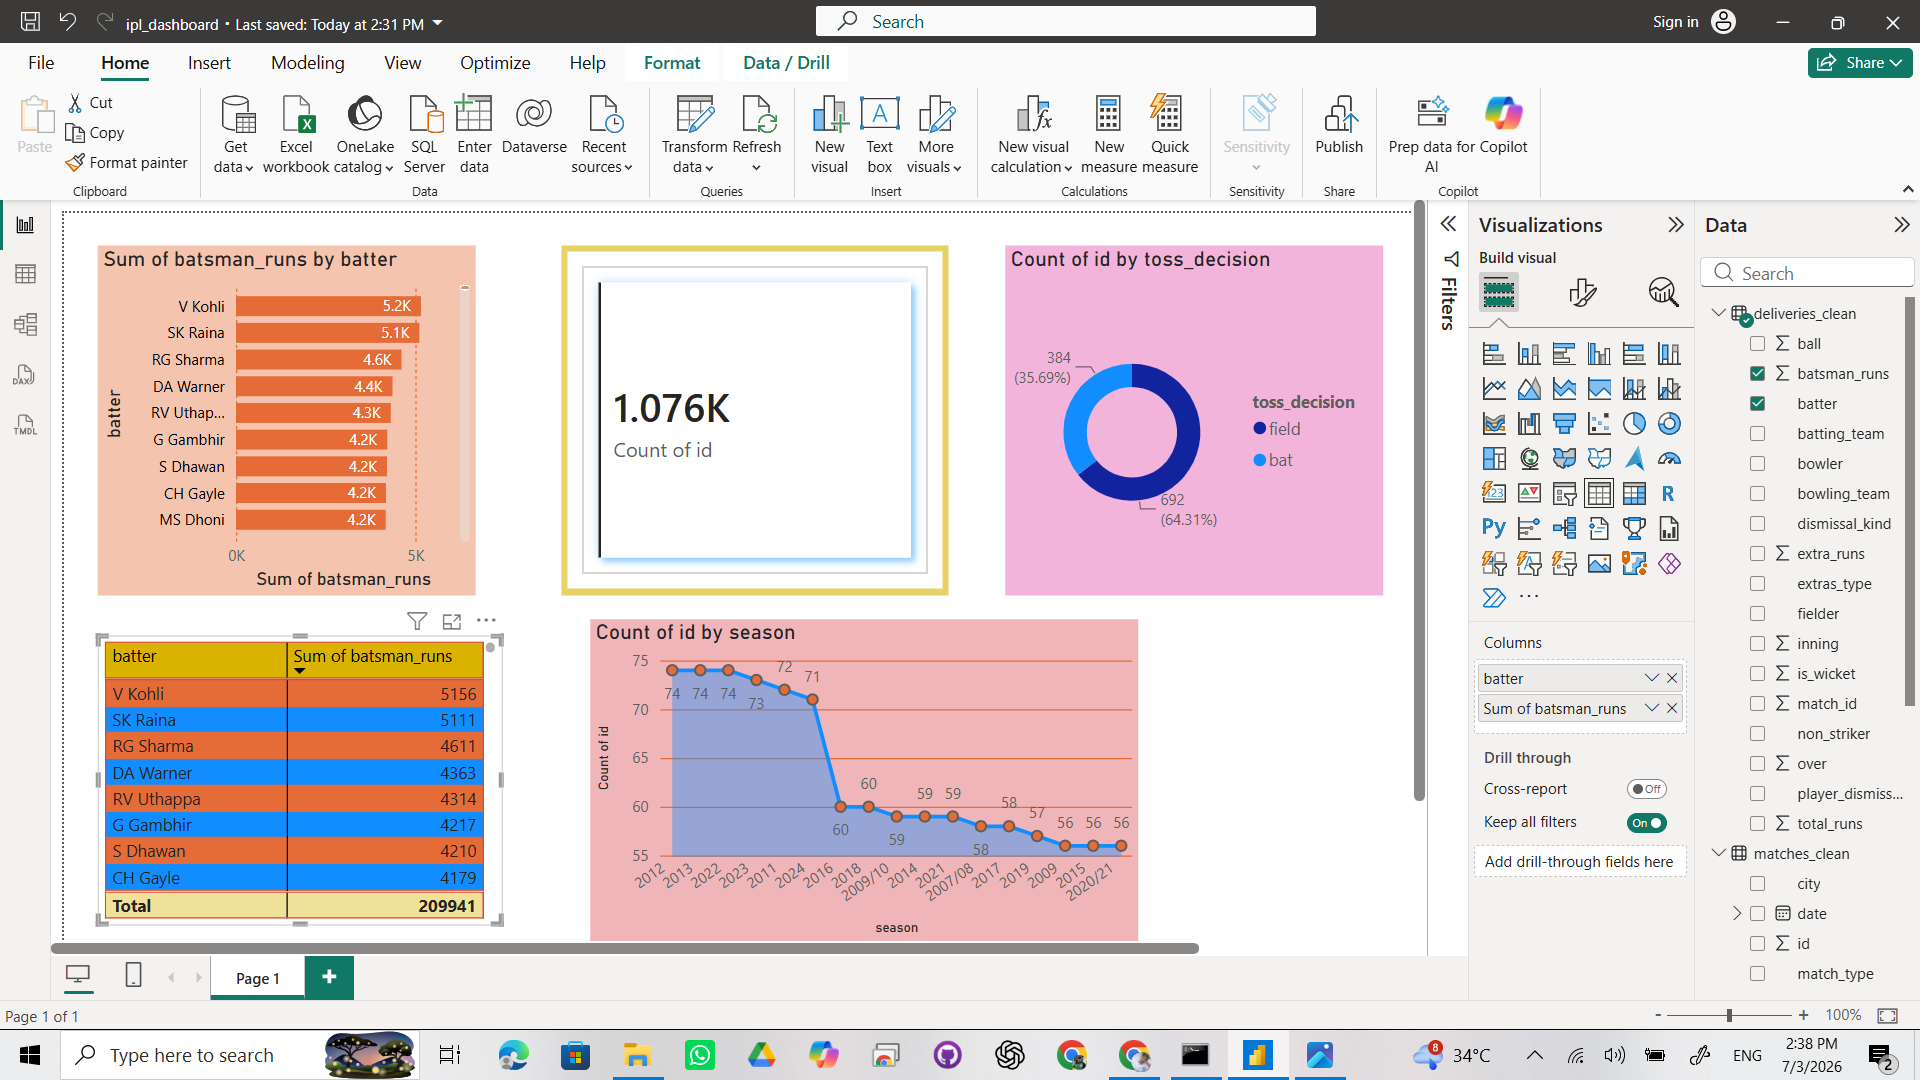

This screenshot's page, from the dashboard's own definition file:
{"tool":"powerbi","page":{"name":"Page 1","canvas":[1280,720],"ordinal":0},"visuals":[{"type":"cardVisual","fields":{"Data":["CountNonNull(matches_clean.id)"]},"box":[421,9,294,280],"z":0},{"type":"tableEx","fields":{"Values":["deliveries_clean.batter","deliveries_clean.batsman_runs"]},"box":[38,338,306,232],"z":1000},{"type":"donutChart","fields":{"Category":["matches_clean.toss_decision"],"Y":["CountNonNull(matches_clean.id)"]},"box":[754,9,303,280],"z":2000},{"type":"lineChart","fields":{"Category":["matches_clean.season"],"Y":["CountNonNull(matches_clean.id)"]},"box":[421,325,439,258],"z":3000},{"type":"clusteredBarChart","fields":{"Category":["deliveries_clean.batter"],"Y":["Sum(deliveries_clean.batsman_runs)"]},"box":[53,9,329,280],"z":4000}]}

Visuals, with their boxes on the page's 1280x720 design canvas (x1, y1, x2, y2). These are canvas units, not pixel positions in the 1920x1080 screenshot, which may show the page scaled, cropped or inside an application window:
cardVisual - CountNonNull(matches_clean.id): [421, 9, 715, 289]
tableEx - deliveries_clean.batter x deliveries_clean.batsman_runs: [38, 338, 344, 570]
donutChart - matches_clean.toss_decision x CountNonNull(matches_clean.id): [754, 9, 1057, 289]
lineChart - matches_clean.season x CountNonNull(matches_clean.id): [421, 325, 860, 583]
clusteredBarChart - deliveries_clean.batter x Sum(deliveries_clean.batsman_runs): [53, 9, 382, 289]
